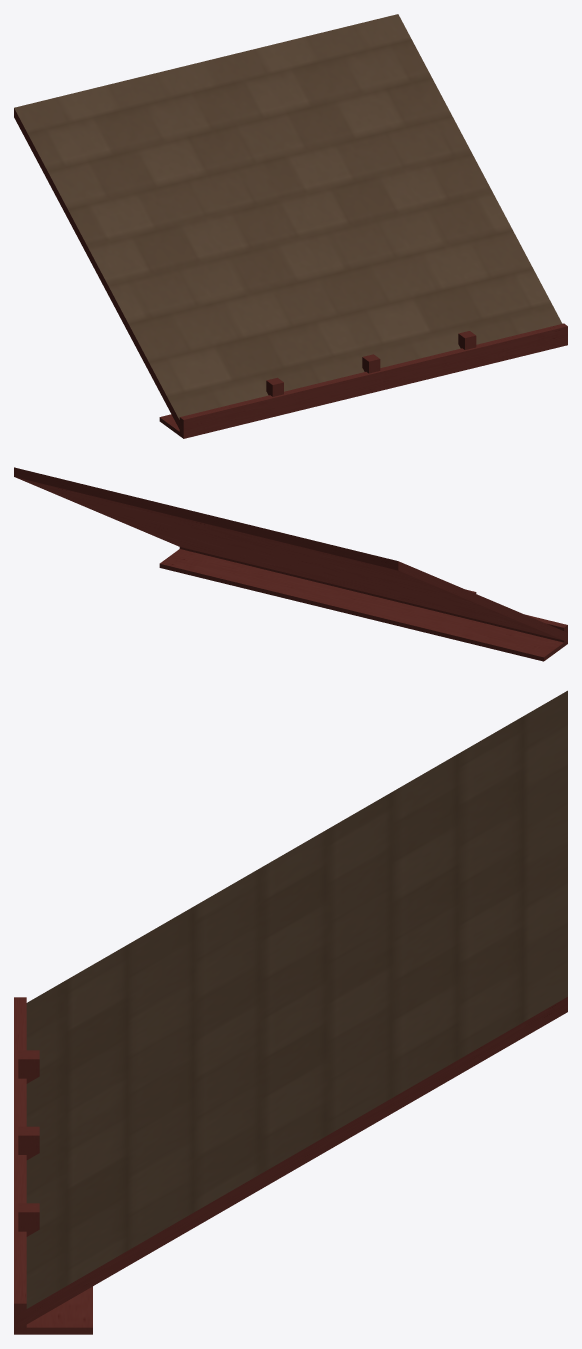
The model's file is house_02_roof_slope.glb.
3 views of the same model, one above another, from view 1: azimuth 30°, elevation 25°; view 2: azimuth 150°, elevation 25°; view 3: azimuth 270°, elevation 25° (orthographic). The views are drawn at different scales.
Parts seen in each view (by area): view 1: outdoor_house_02_roof_slope; view 2: outdoor_house_02_roof_slope; view 3: outdoor_house_02_roof_slope.
Boxes of the visible parts, bbox=[...] form: outdoor_house_02_roof_slope: bbox=[14, 14, 567, 438]; outdoor_house_02_roof_slope: bbox=[14, 467, 567, 661]; outdoor_house_02_roof_slope: bbox=[14, 690, 567, 1334].
Bounding box in the file's own units: 3.4 × 1.75 × 2.6.
Materials: 1 (1 with a texture image).
